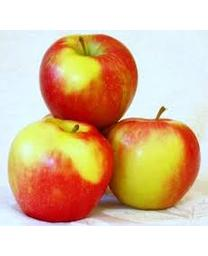apple: (8, 118, 114, 222), (100, 107, 201, 210), (38, 33, 138, 129)
